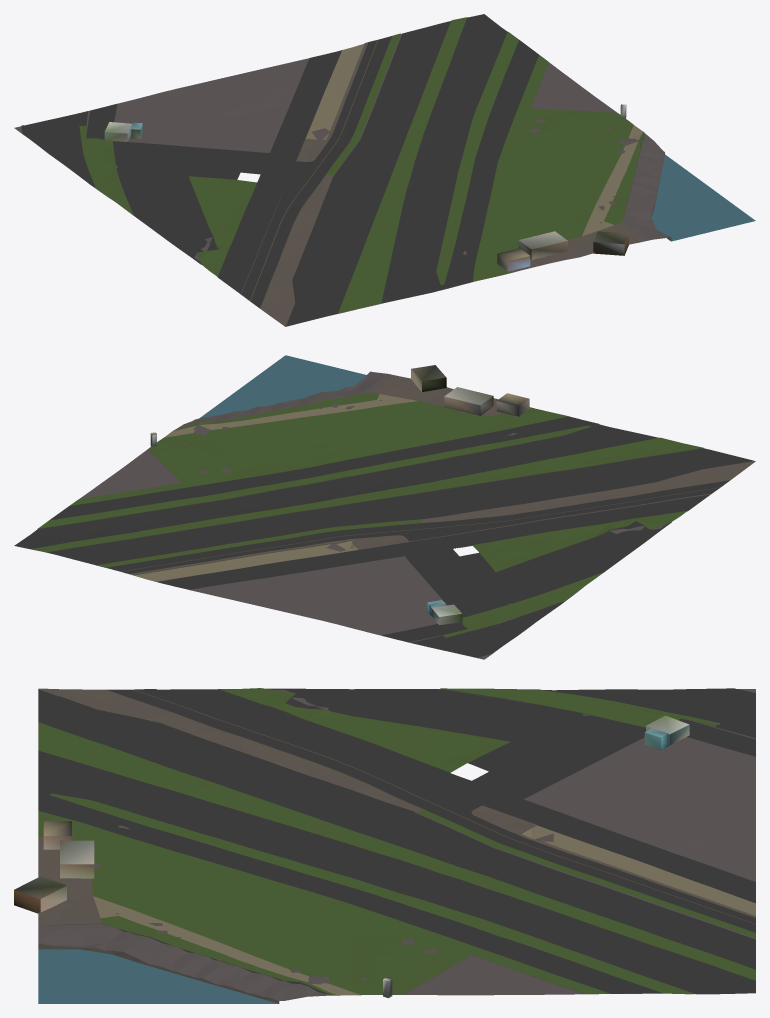
3 views of the same model, one above another, from view 1: azimuth 30°, elevation 25°; view 2: azimuth 150°, elevation 25°; view 3: azimuth 270°, elevation 25° (orthographic). The views are drawn at different scales.
Parts seen in each view (by area): view 1: c_p04_m12; view 2: c_p04_m12; view 3: c_p04_m12, append:c_p04_m12.
Part boxes in pixels (<box>): c_p04_m12: <box>14,14,755,326</box>; c_p04_m12: <box>14,355,755,659</box>; c_p04_m12: <box>14,688,755,1003</box>; append:c_p04_m12: <box>38,943,279,1003</box>.
Bounding box in the file's own units: 129 × 4.83 × 132.
